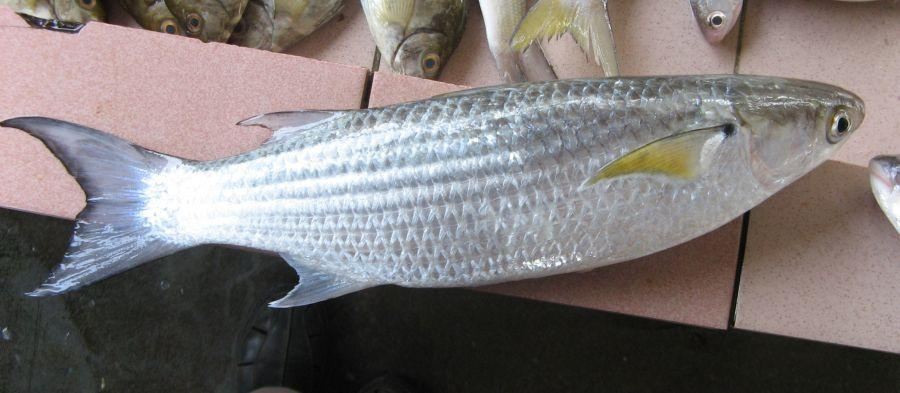Mullet: (3, 62, 873, 318)
